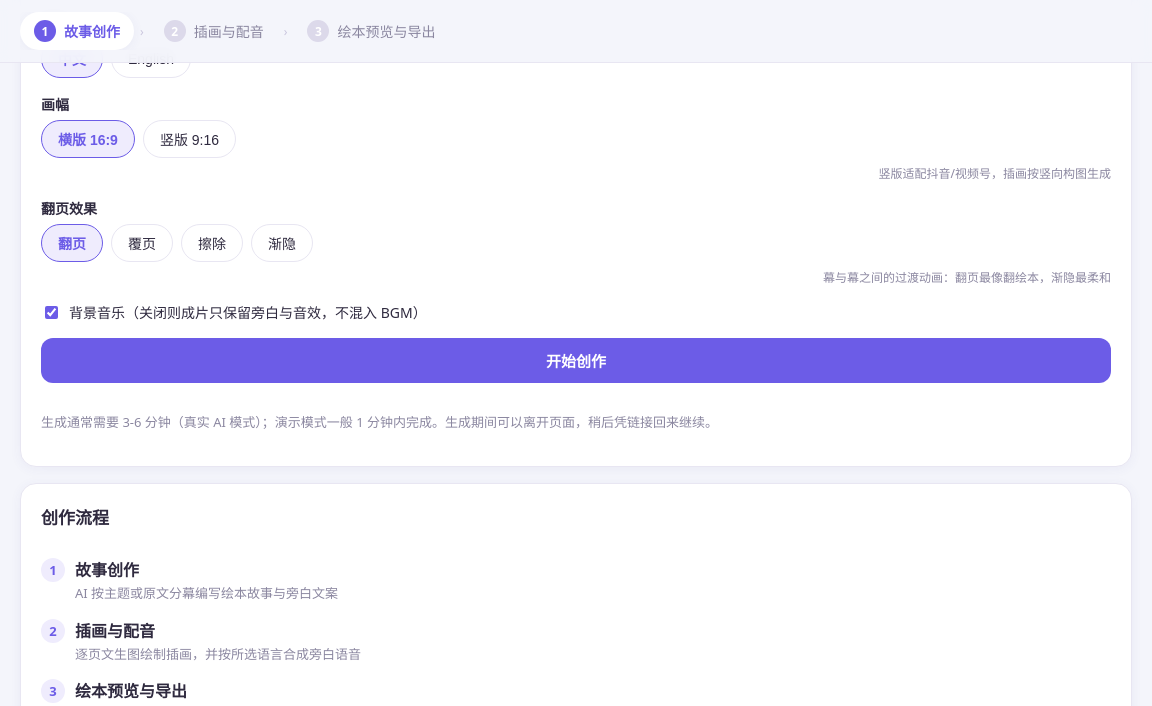
Test: CreatePage › shows a validation error for an empty theme
The image size is (1152, 706).
(page scrolled)
Click the button "开始创作" at [576, 361], box [41,338,1111,383]
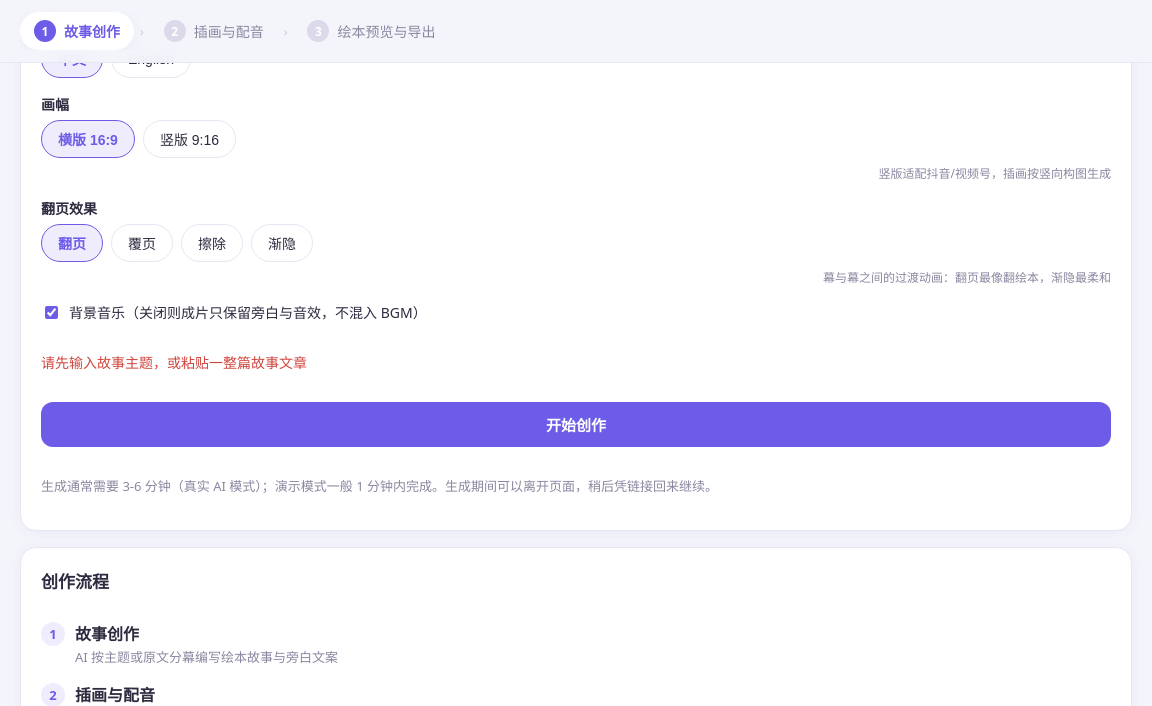
Check: the message "请先输入故事主题，或粘贴一整篇故事文章" is shown, box [41,353,307,372]
